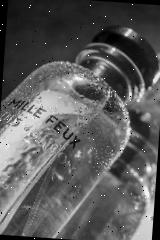glass: (0, 17, 160, 240)
